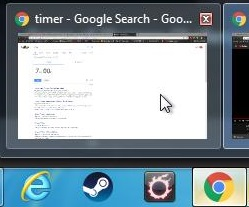cursor: (159, 92, 172, 113)
